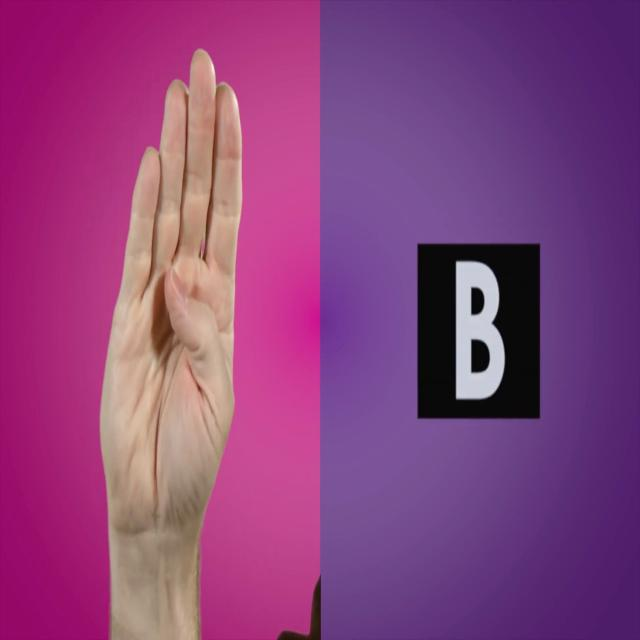B: (86, 31, 270, 639)
